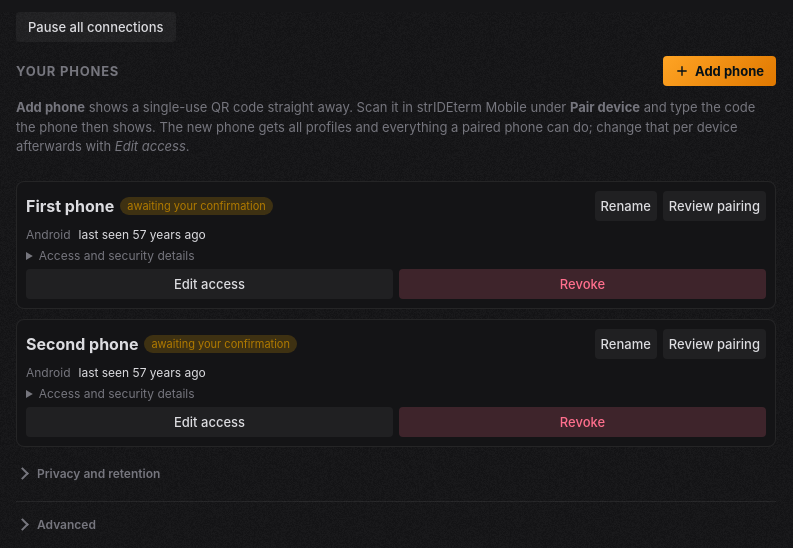
Test: SettingsMobileTab › Review pairing opens the code prompt for the selected pending phone
The image size is (793, 548).
Click the button "Review pairing" in the row of "Second phone" at (714, 344), box [663,328,766,358]
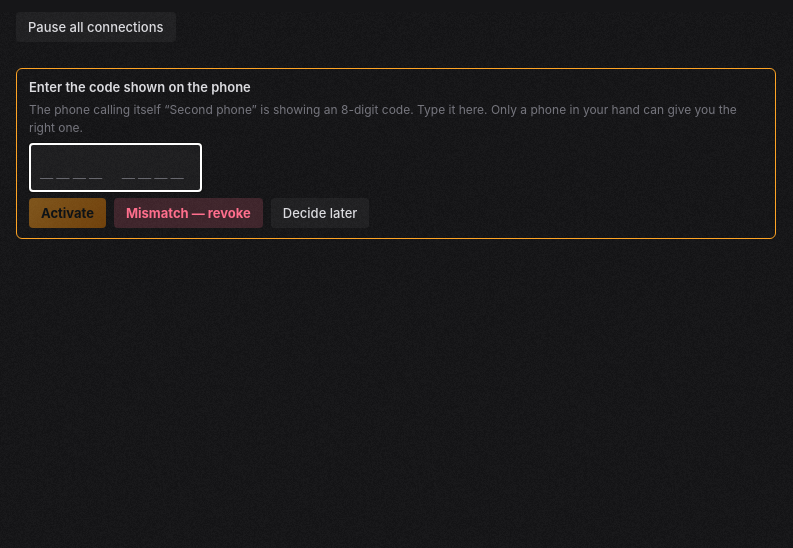
expect the element that starts with "Enter the code shown on the phone" shows "Second phone": met, box [29,102,737,135]
expect the text "First phone" is gone: met
